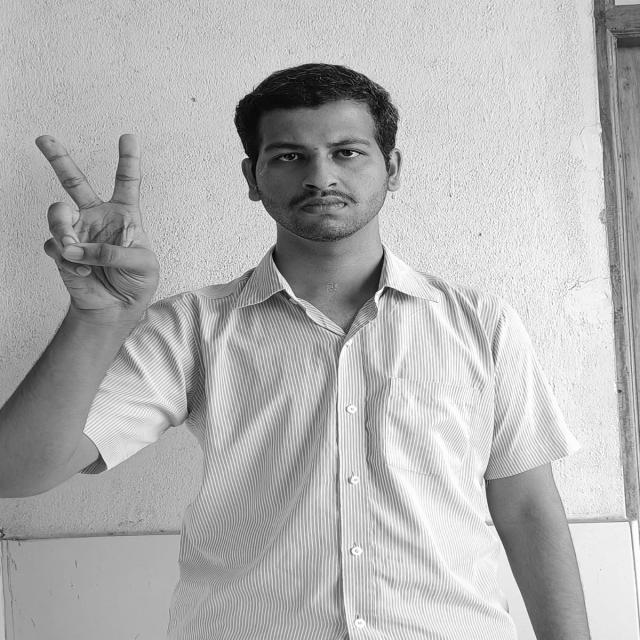Victory: (30, 132, 158, 310)
